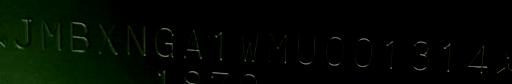letter: (94, 20, 124, 56), (320, 31, 350, 67), (464, 41, 494, 77), (123, 20, 151, 58), (264, 28, 292, 66), (434, 37, 464, 72), (350, 33, 380, 67), (66, 17, 94, 53), (152, 24, 180, 60), (294, 30, 322, 66), (181, 23, 207, 61), (38, 17, 66, 51), (12, 13, 38, 49), (408, 38, 434, 74), (238, 28, 262, 64), (380, 36, 402, 71), (209, 27, 229, 63)
